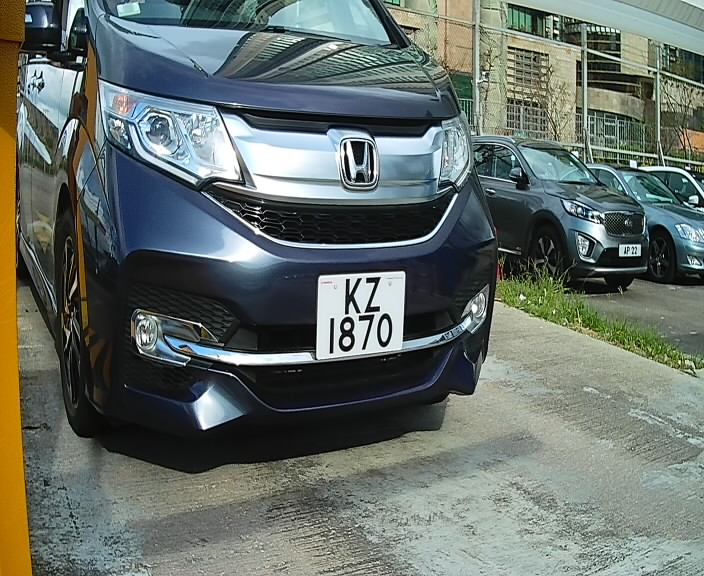Car: (2, 2, 545, 473)
License Plate: (312, 266, 415, 365)
